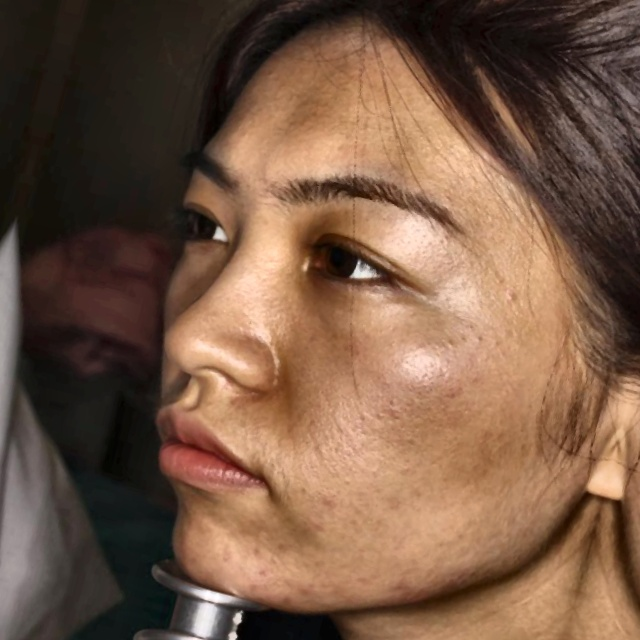comedone: (377, 568, 434, 606), (281, 575, 323, 615)
